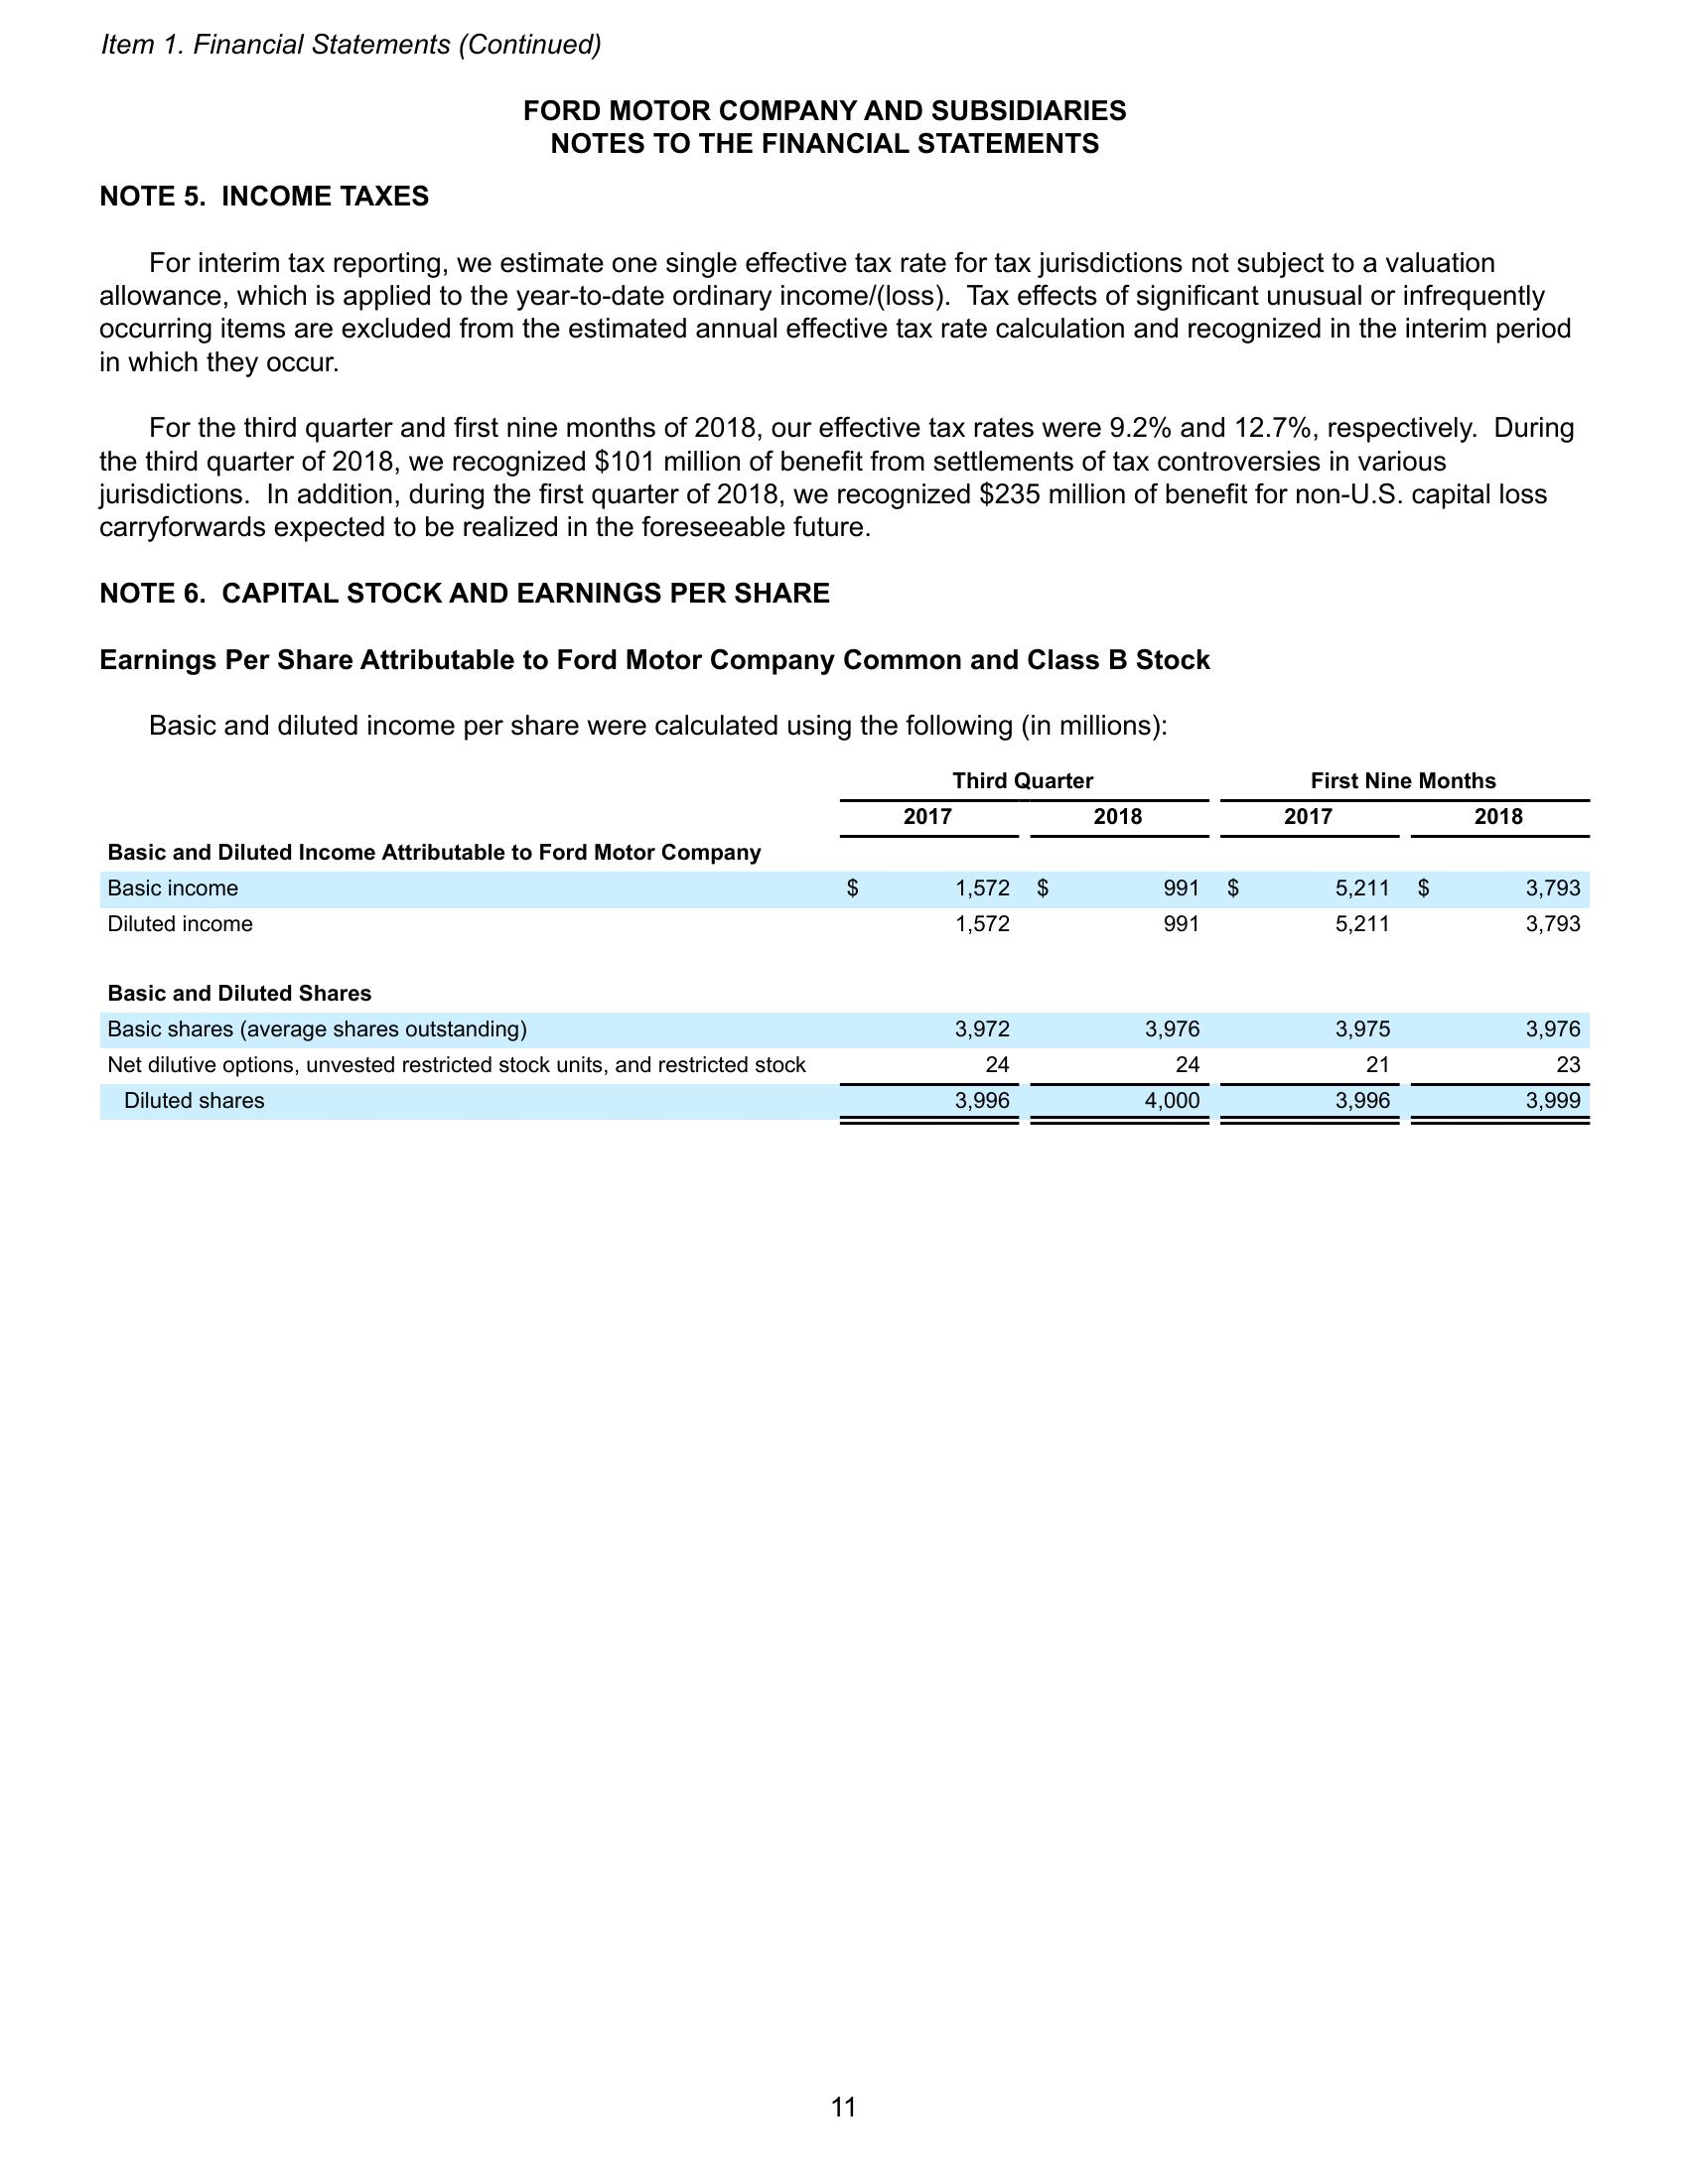table: (94, 759, 1599, 1129)
